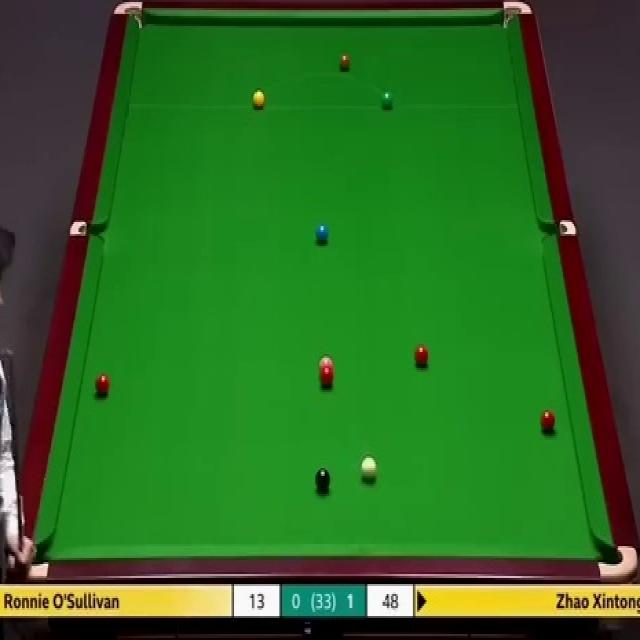black-ball: (313, 468, 333, 492)
blue-ball: (316, 225, 327, 245)
brown-ball: (336, 53, 352, 73)
green-ball: (380, 89, 393, 110)
pink-ball: (318, 356, 336, 368)
red-ball: (538, 408, 556, 434), (93, 376, 110, 398), (319, 368, 335, 391), (414, 345, 428, 367)
white-ball: (360, 454, 377, 482)
yellow-ball: (251, 89, 265, 110)
